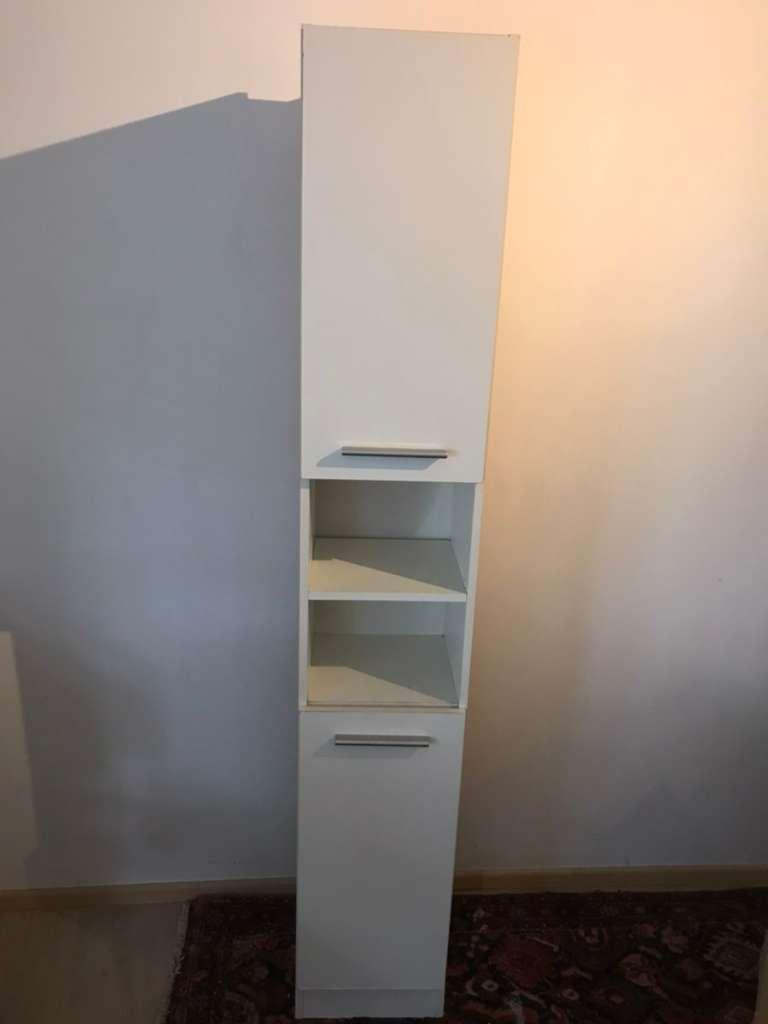cabinet_door: (300, 32, 492, 478), (302, 710, 455, 988)
handle: (322, 727, 434, 758), (328, 441, 451, 469)
